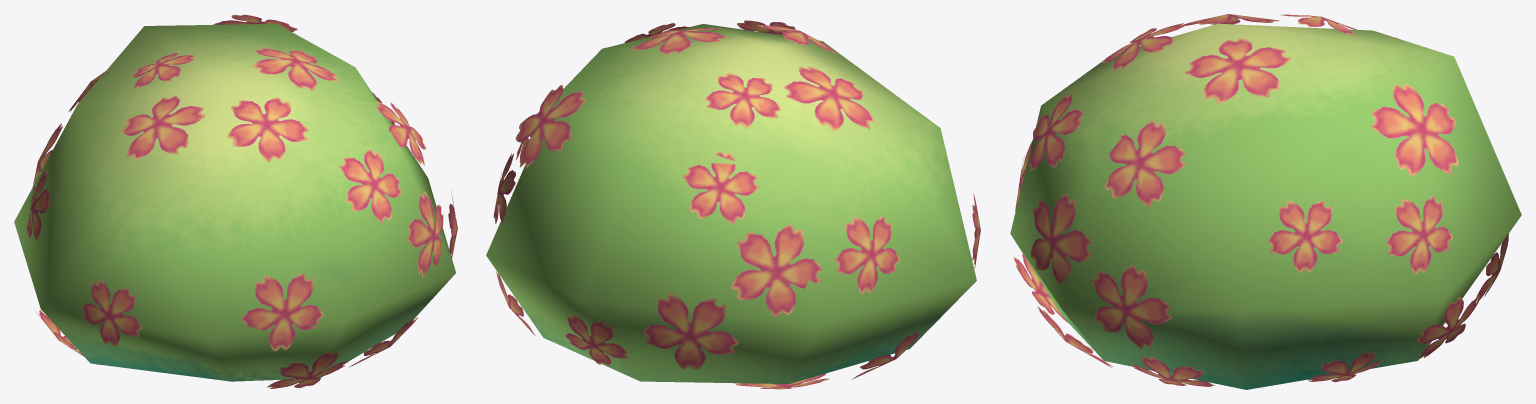
The model's file is M_Bush.fbx.
3 views of the same model, side by side, from view 1: azimuth 30°, elevation 25°; view 2: azimuth 150°, elevation 25°; view 3: azimuth 270°, elevation 25° (orthographic). The views are drawn at different scales.
Visible parts, largest first — view 1: M_Bush; view 2: M_Bush; view 3: M_Bush.
Boxes of the visible parts, bbox=[...] form: M_Bush: bbox=[14, 14, 457, 388]; M_Bush: bbox=[486, 20, 980, 389]; M_Bush: bbox=[1010, 14, 1521, 389].
Bounding box in the file's own units: 1.03 × 1.06 × 0.6809.
1 material, 1 textured.
